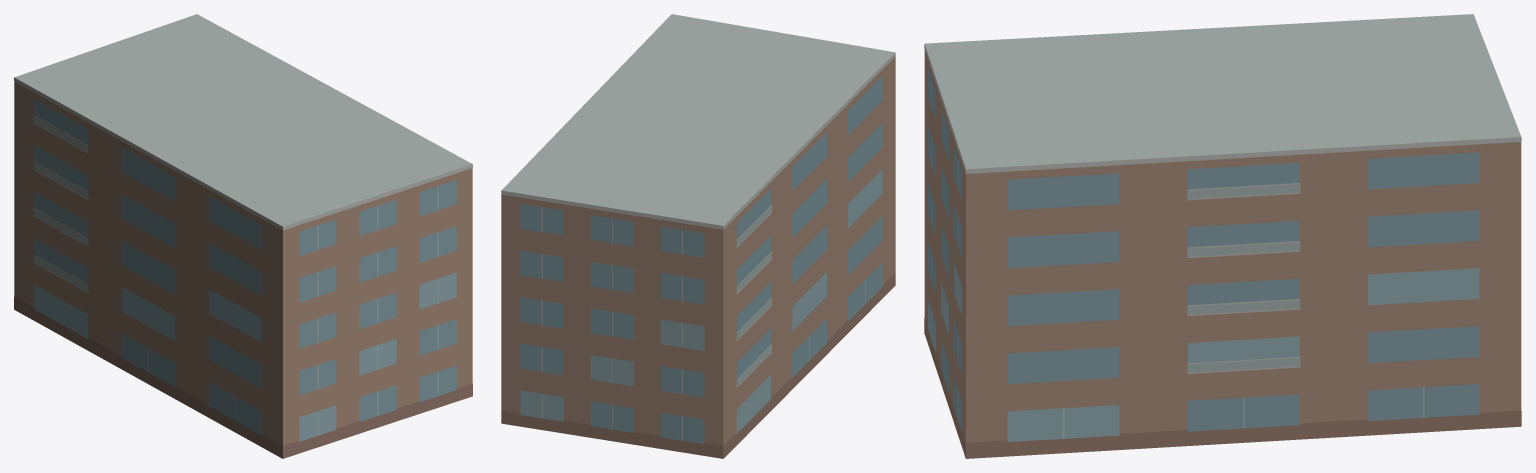
The model's file is survey-upis-32925386.glb.
3 views of the same model, side by side, from view 1: azimuth 30°, elevation 25°; view 2: azimuth 150°, elevation 25°; view 3: azimuth 270°, elevation 25° (orthographic). The views are drawn at different scales.
Visible parts, largest first — view 1: survey-upis-32925386.tmp; view 2: survey-upis-32925386.tmp; view 3: survey-upis-32925386.tmp.
Boxes of the visible parts, left/top/right/bottom form: survey-upis-32925386.tmp: left=14, top=14, right=472, bottom=458; survey-upis-32925386.tmp: left=501, top=14, right=895, bottom=458; survey-upis-32925386.tmp: left=924, top=14, right=1521, bottom=458.
Bounding box in the file's own units: 16.79 × 14.6 × 27.29.
